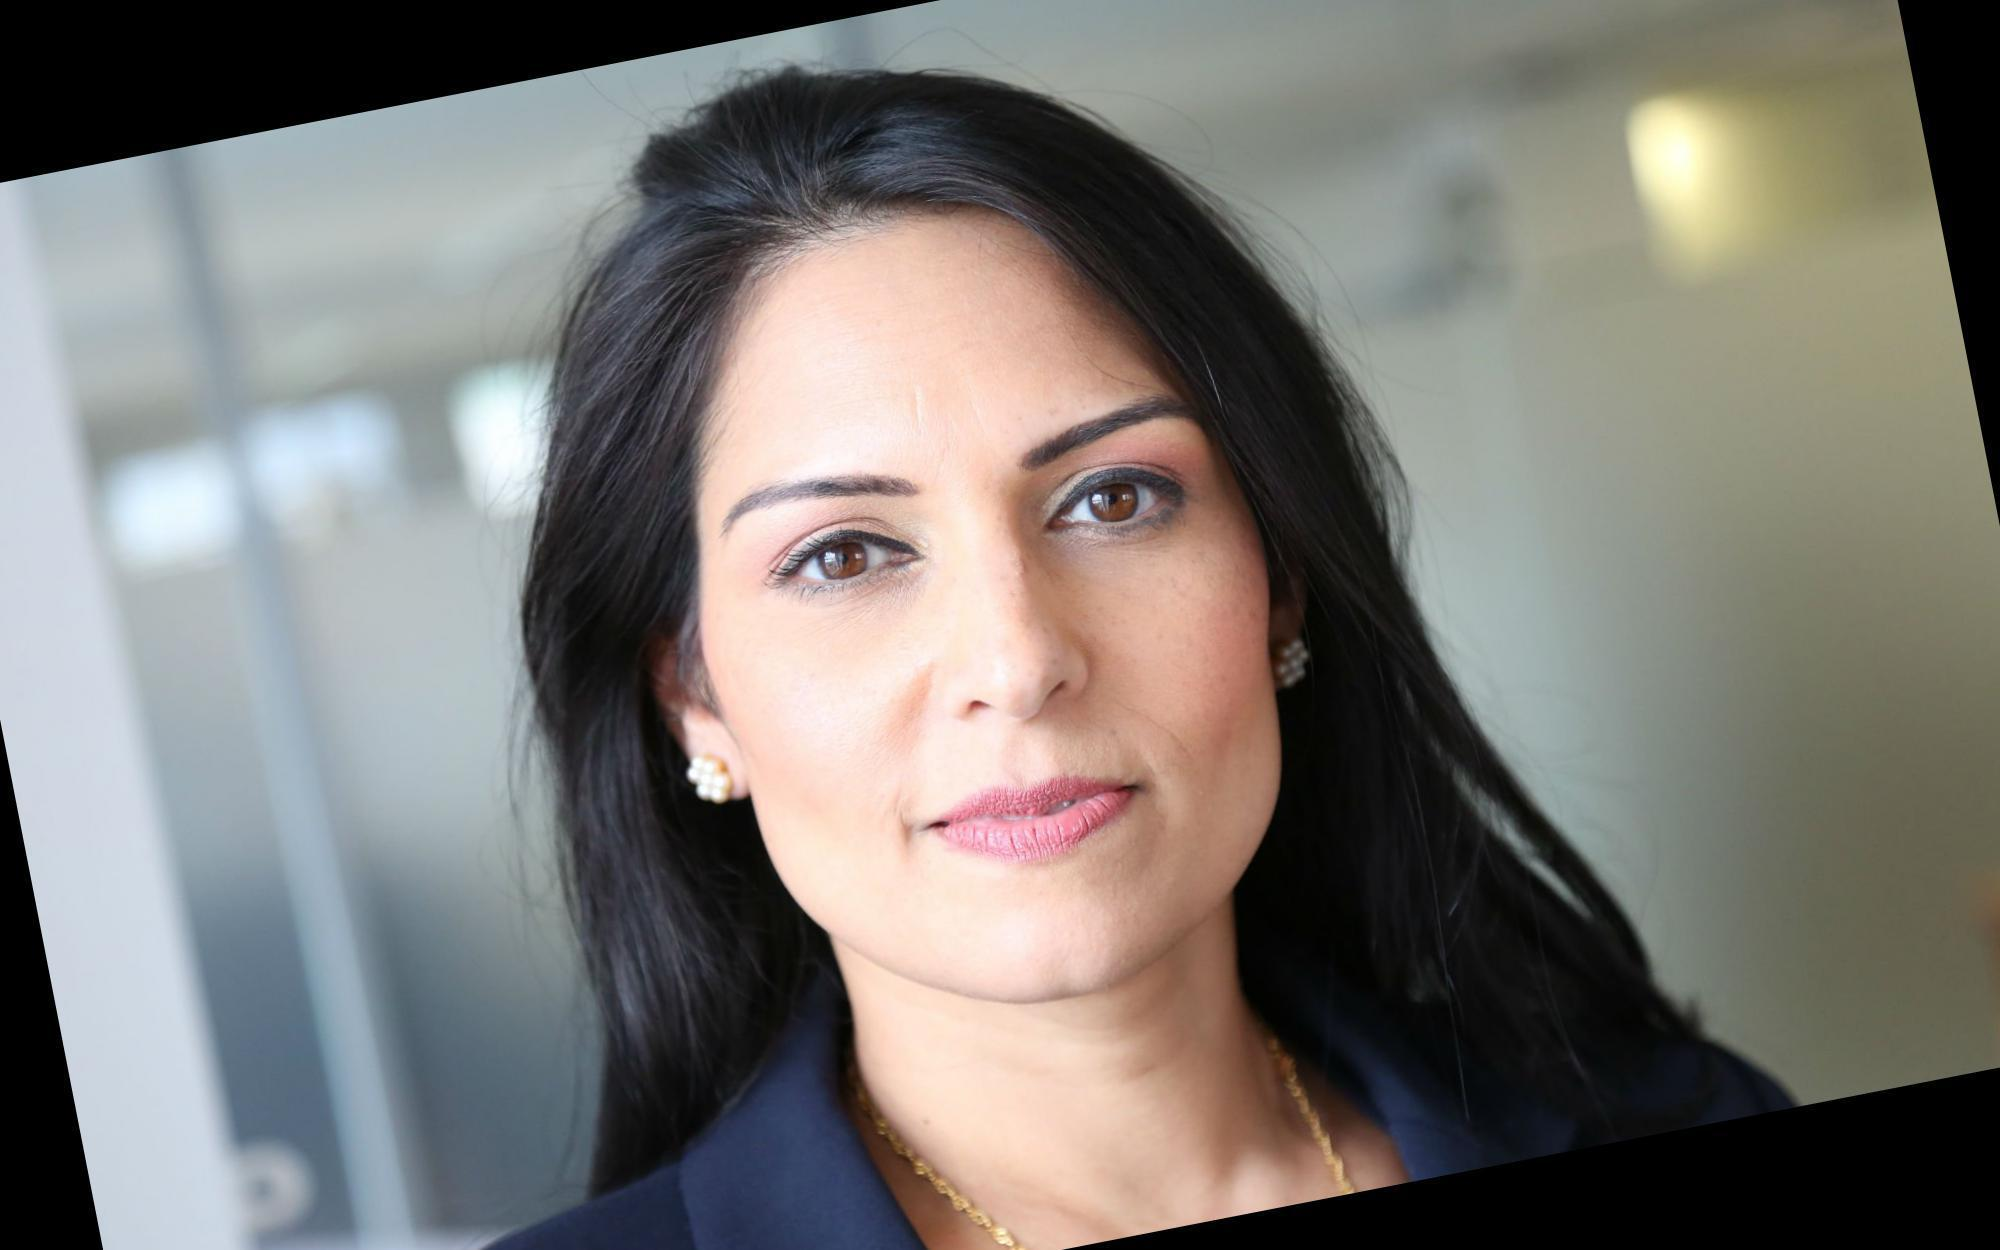Sober: (708, 298, 1254, 943)
